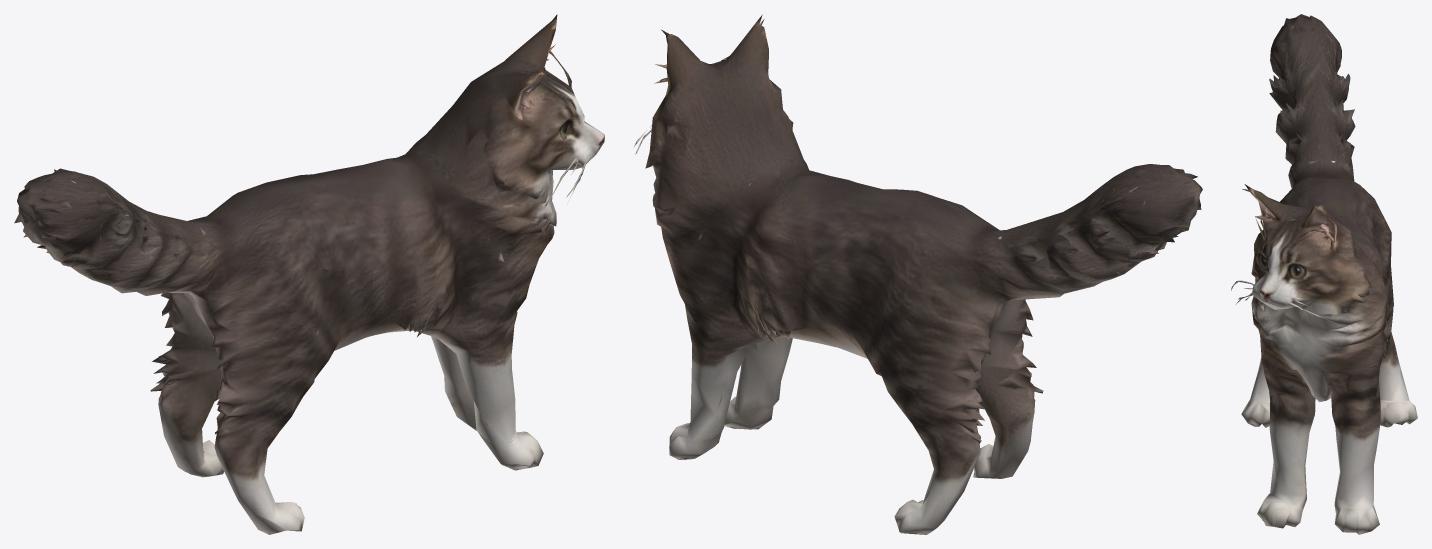
The model's file is MITTENSCAT-lo.glb.
The picture shows the model from 3 angles, left to right: view 1: azimuth 30°, elevation 25°; view 2: azimuth 150°, elevation 25°; view 3: azimuth 270°, elevation 25°; orthographic projection. The views are drawn at different scales.
Visible parts, largest first — view 1: tripo_node_d91d6be8-ab1a-48e6-a53c-2db1814b003c; view 2: tripo_node_d91d6be8-ab1a-48e6-a53c-2db1814b003c; view 3: tripo_node_d91d6be8-ab1a-48e6-a53c-2db1814b003c.
Boxes of the visible parts, x1,y1,x2,y2 form: tripo_node_d91d6be8-ab1a-48e6-a53c-2db1814b003c: (14, 14, 604, 534); tripo_node_d91d6be8-ab1a-48e6-a53c-2db1814b003c: (633, 14, 1202, 534); tripo_node_d91d6be8-ab1a-48e6-a53c-2db1814b003c: (1231, 14, 1417, 534).
Bounding box in the file's own units: 1.43 × 0.9921 × 0.4877.
1 material, 1 textured.
